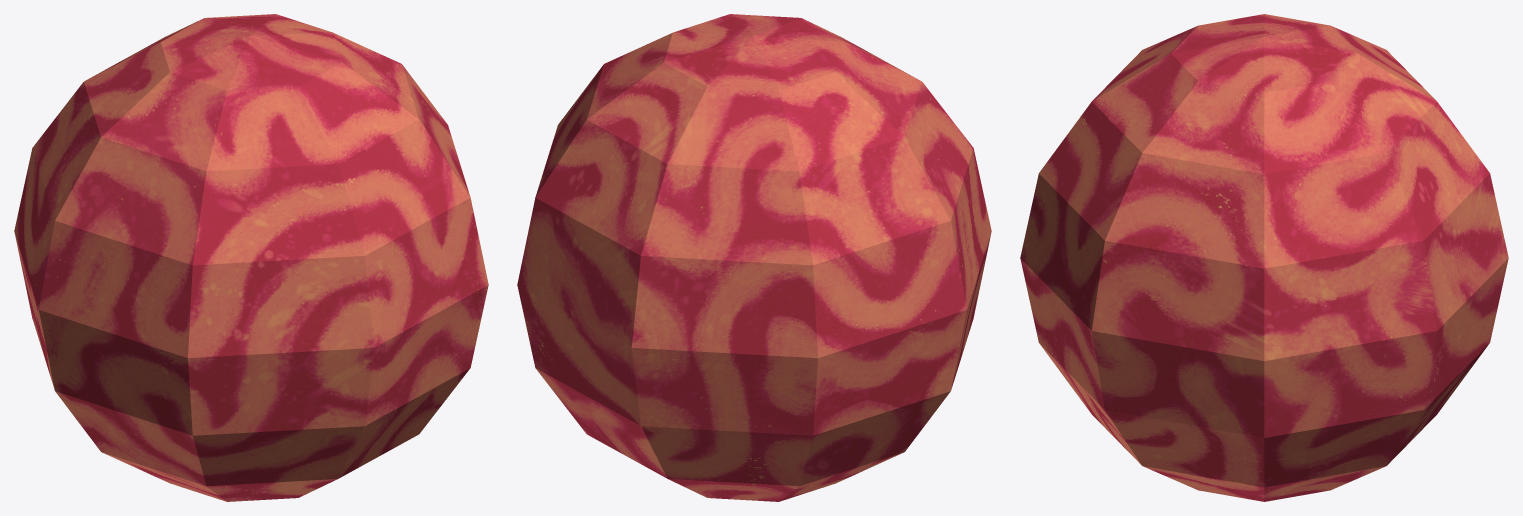
The model's file is Brain.obj.
3 views of the same model, side by side, from view 1: azimuth 30°, elevation 25°; view 2: azimuth 150°, elevation 25°; view 3: azimuth 270°, elevation 25° (orthographic).
Parts seen in each view (by area): view 1: UV_Sphere_UV_Sphere; view 2: UV_Sphere_UV_Sphere; view 3: UV_Sphere_UV_Sphere.
Boxes of the visible parts, x1,y1,x2,y2 form: UV_Sphere_UV_Sphere: [14, 14, 488, 501]; UV_Sphere_UV_Sphere: [517, 14, 991, 501]; UV_Sphere_UV_Sphere: [1020, 14, 1508, 501].
Bounding box in the file's own units: 1 × 1 × 1.
Materials: 1 (1 with a texture image).
